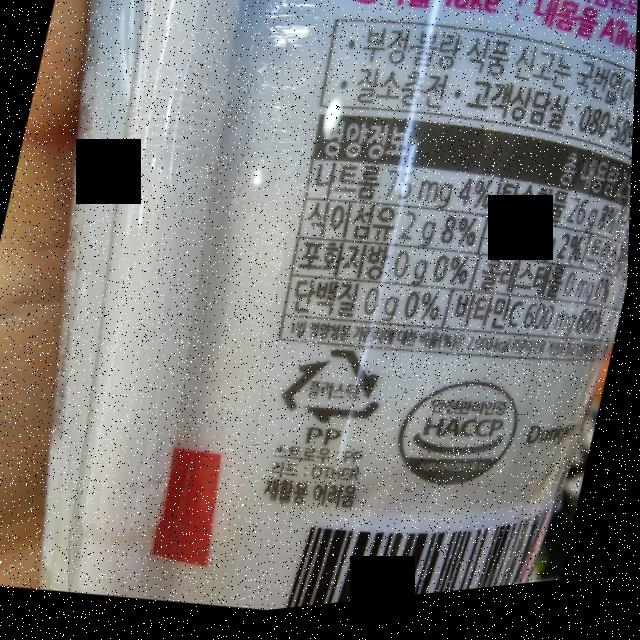Plastic: (276, 341, 396, 445)
